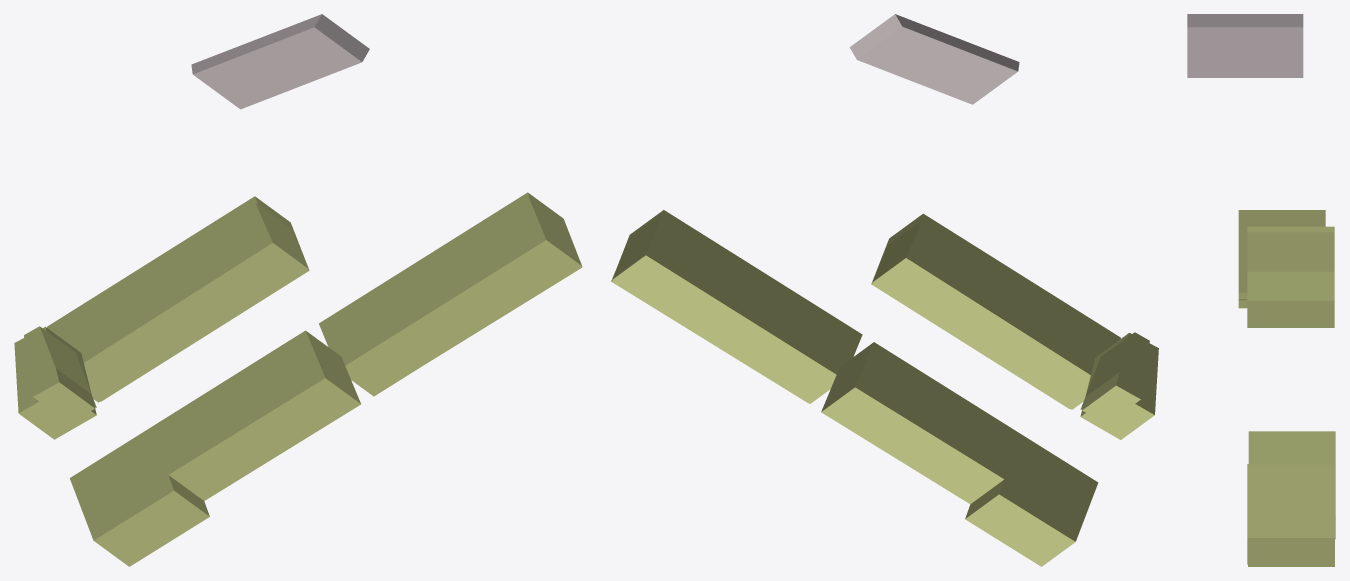
The picture shows the model from 3 angles, left to right: view 1: azimuth 30°, elevation 25°; view 2: azimuth 150°, elevation 25°; view 3: azimuth 270°, elevation 25°; orthographic projection. The views are drawn at different scales.
Parts seen in each view (by area): view 1: 0_1_3_2_1_1_1_2; view 2: 0_1_3_2_1_1_1_2; view 3: 0_1_3_2_1_1_1_2.
Part boxes in pixels (left/top/right/bottom): 0_1_3_2_1_1_1_2: left=14, top=14, right=582, bottom=566; 0_1_3_2_1_1_1_2: left=611, top=14, right=1158, bottom=566; 0_1_3_2_1_1_1_2: left=1187, top=14, right=1335, bottom=566.
Size of the model in its own units: 77.65 by 66.98 by 15.36.
